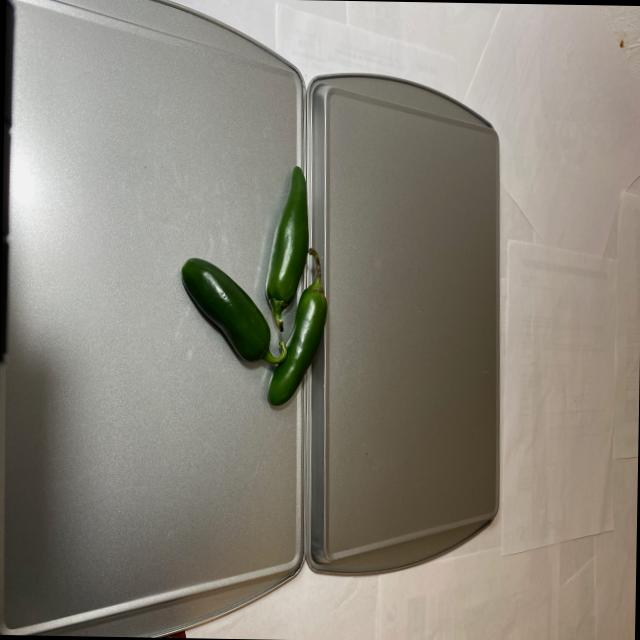chilli: (172, 158, 333, 422)
